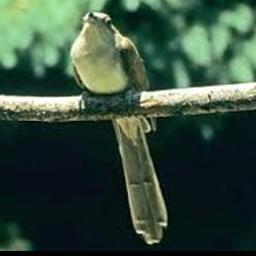Cuckoo: (69, 12, 168, 244)
